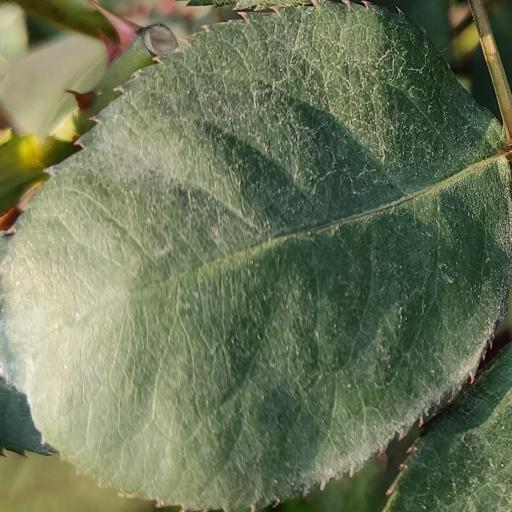healthy_leaf: (3, 2, 512, 508)
